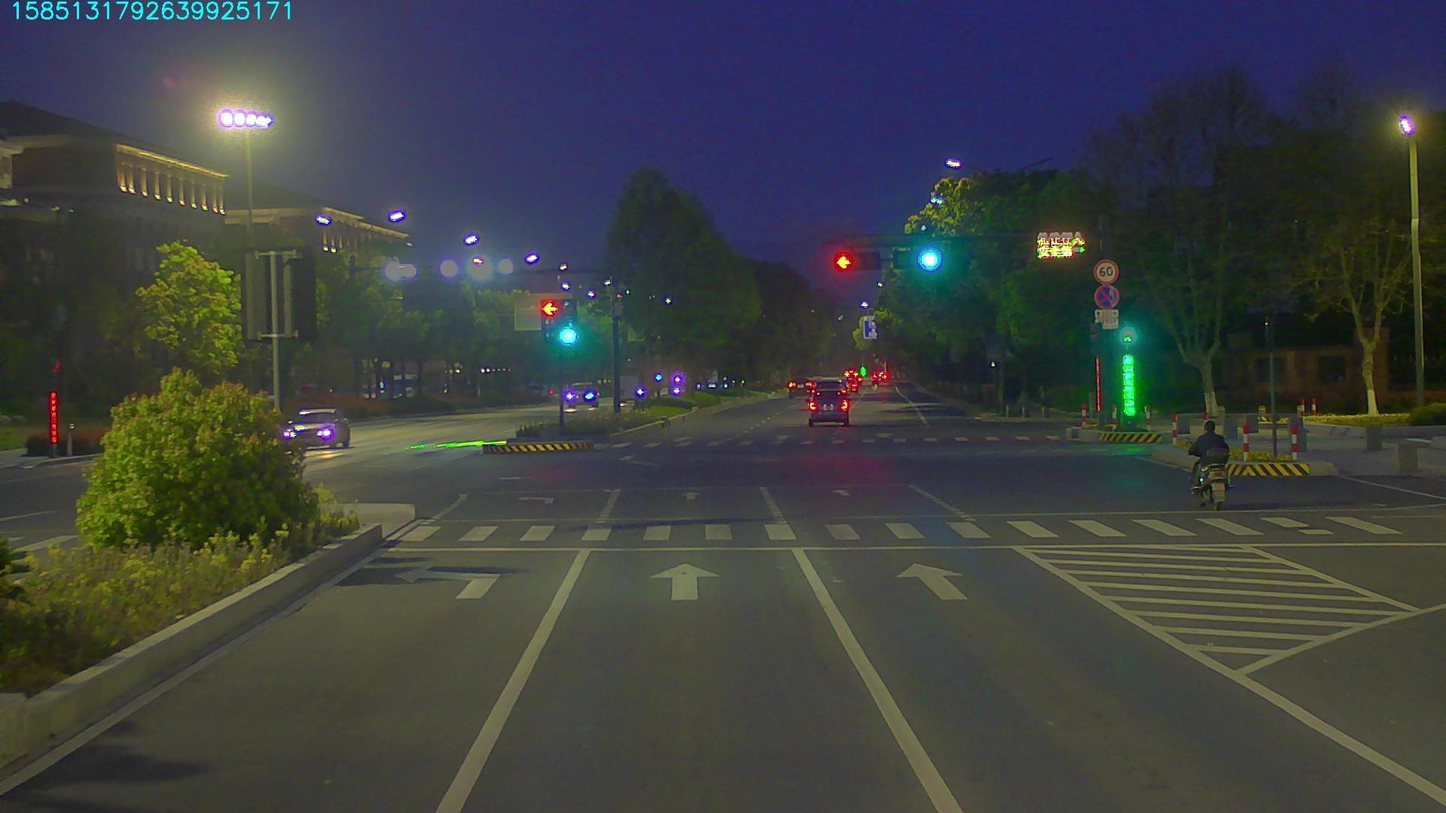green: (892, 248, 947, 268)
red: (832, 254, 877, 275)
